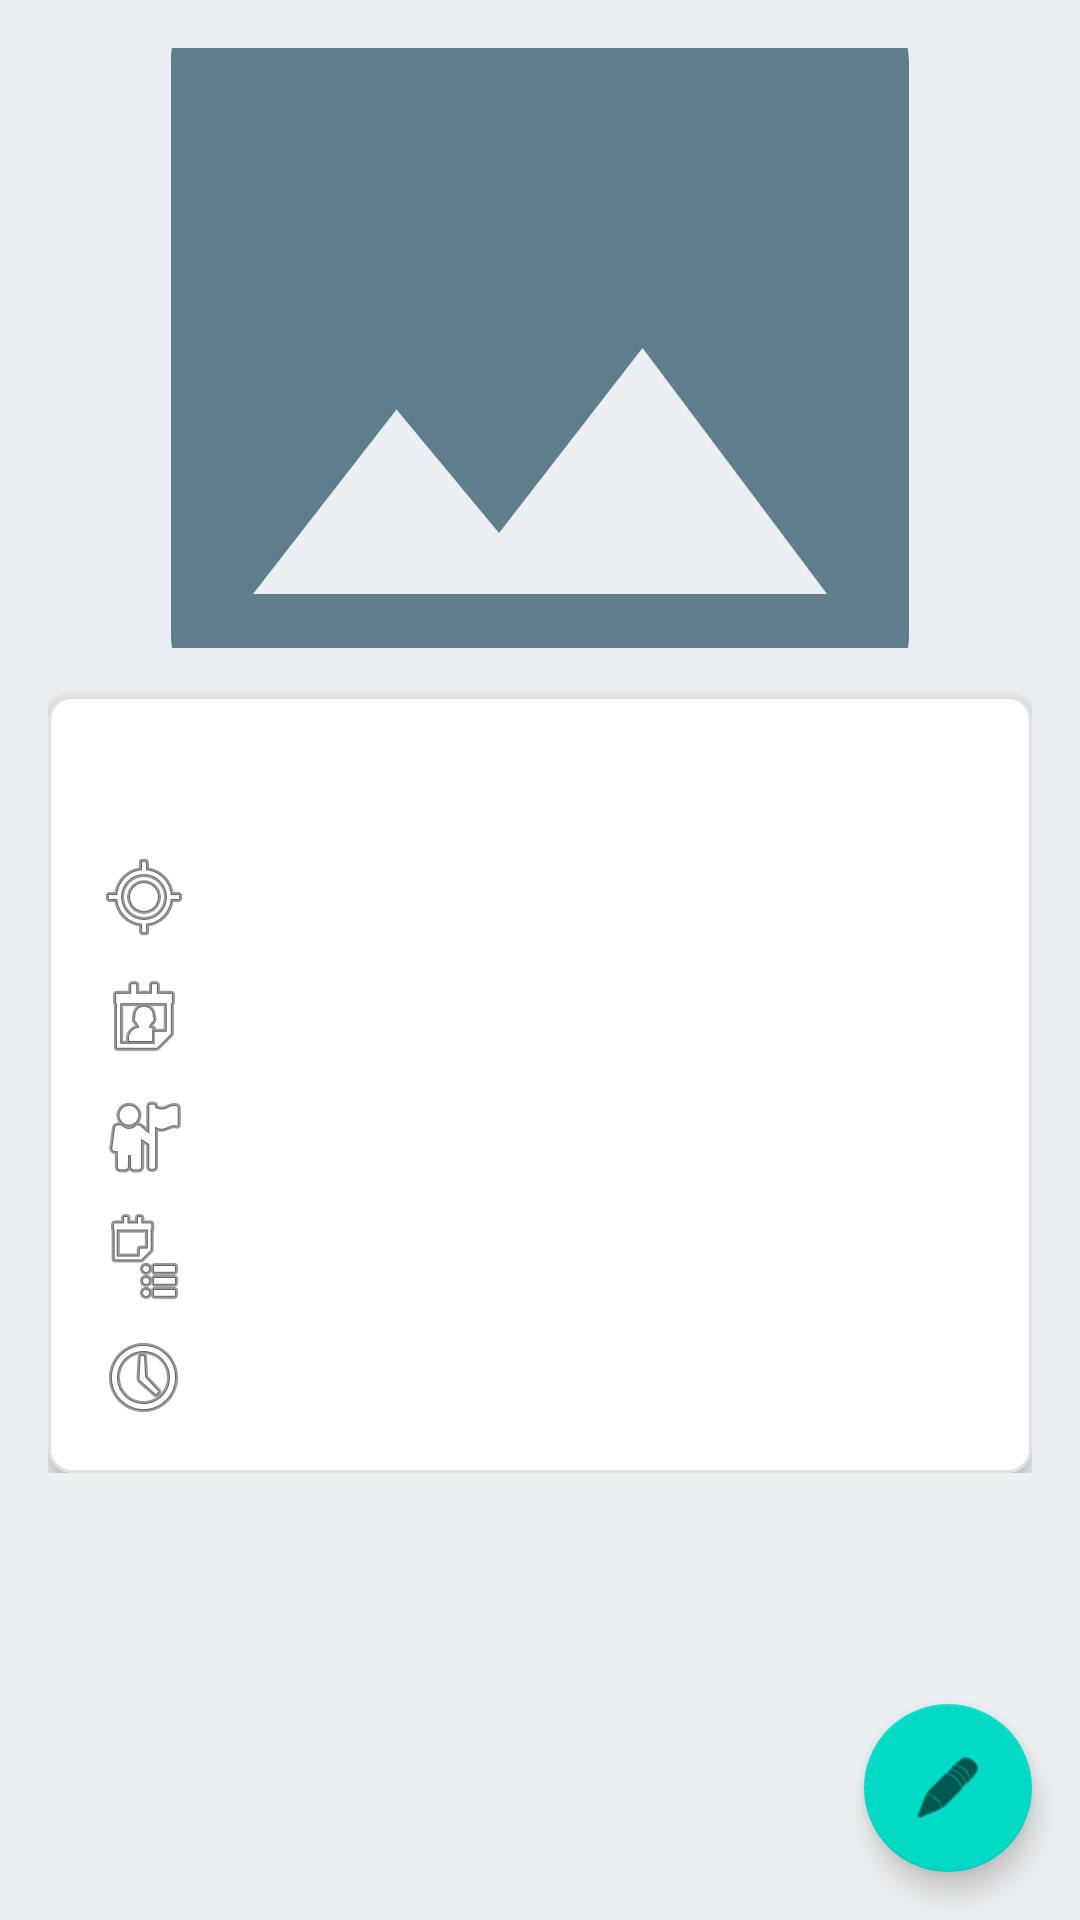

Screen size 1080*1920. Icon name, then its center in pixels as point (x, y):
Edit Event: point (948, 1788)
